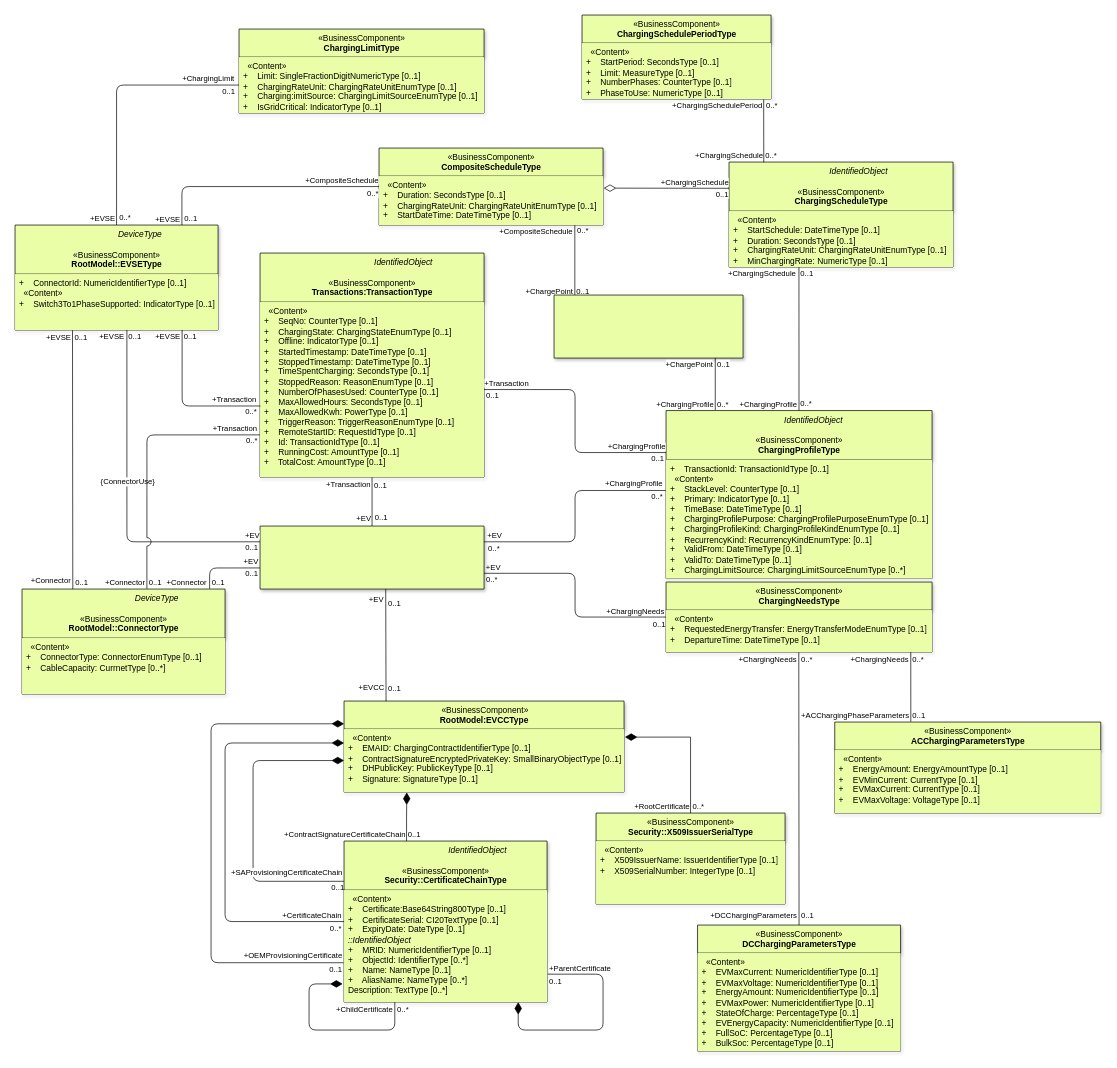
The diagram is 1117 pixels wide and 1068 high, and some of its shapes have lost their labels. The centre of each missing label's shape, as x and y in pixels:
"DeviceType « BusinessComponent » RootModel::ChargingStationType" belongs at (649,327).
"« BusinessComponent » RootModel::EVType" belongs at (372,558).
